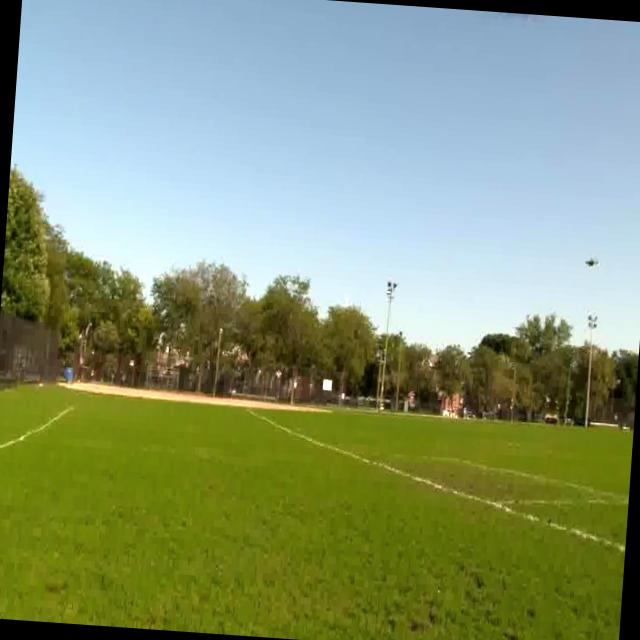drone: (581, 249, 600, 280)
